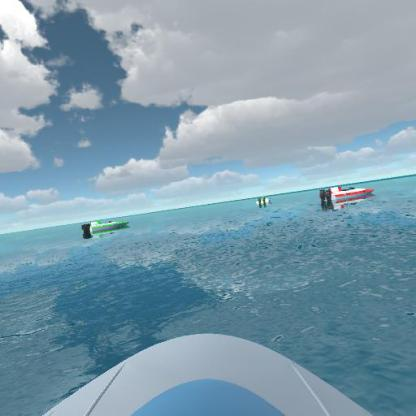usv0: (80, 211, 130, 238), (254, 191, 270, 206)
usv3: (317, 181, 378, 212)
